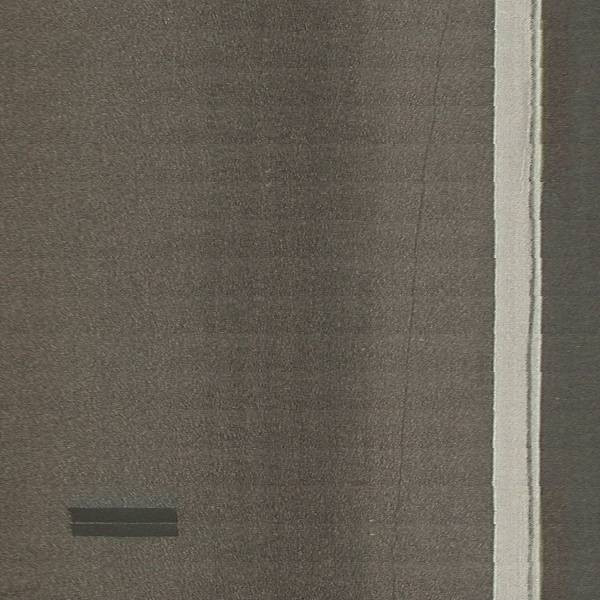road_damage: (60, 488, 191, 544)
